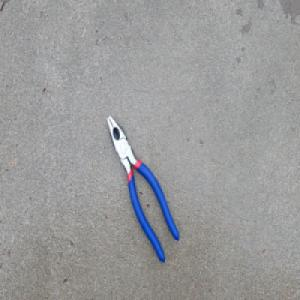Pliers: (107, 115, 179, 263)
